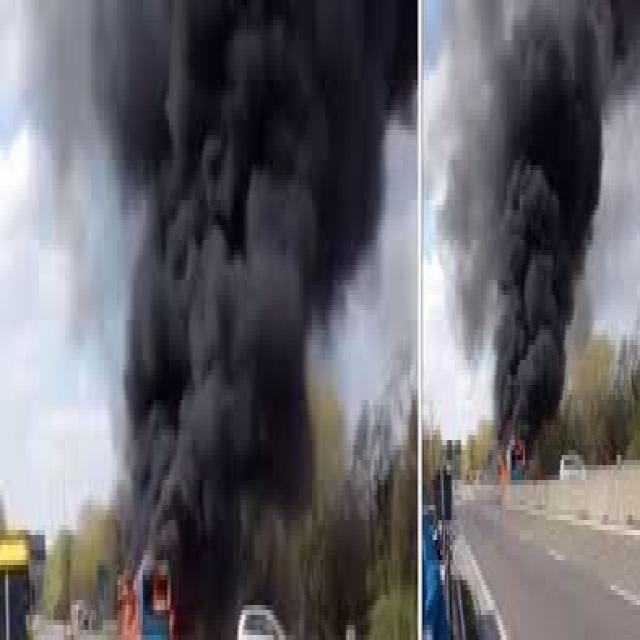Fire: (117, 582, 138, 640), (494, 444, 506, 488)
Smoke: (13, 0, 420, 582), (430, 0, 640, 438)
